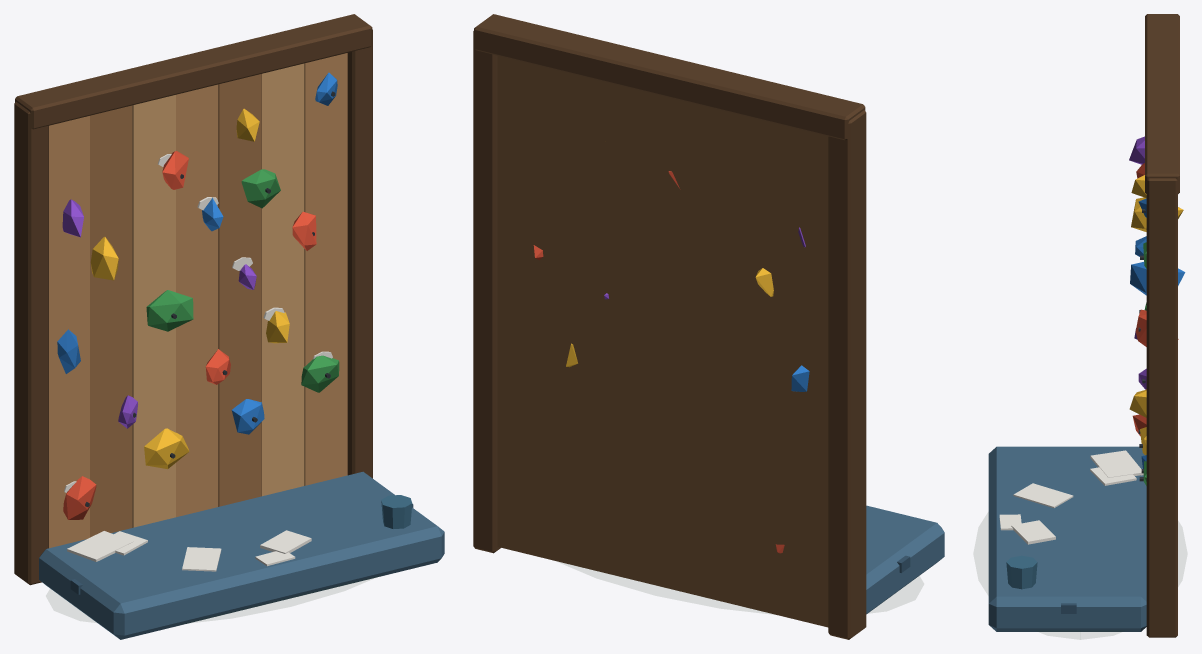
File: hold_wall.glb
3 renders of one model, left to right at view 1: azimuth 30°, elevation 25°; view 2: azimuth 150°, elevation 25°; view 3: azimuth 270°, elevation 25°, orthographic. The views are drawn at different scales.
Parts seen in each view (by area): view 1: hold_wall; view 2: hold_wall; view 3: hold_wall.
Part boxes in pixels (x1=…): hold_wall: x1=14, y1=14, x2=444, y2=639; hold_wall: x1=473, y1=14, x2=944, y2=639; hold_wall: x1=988, y1=14, x2=1185, y2=639.
Bounding box in the file's own units: 2.09 × 2.62 × 1.1.
